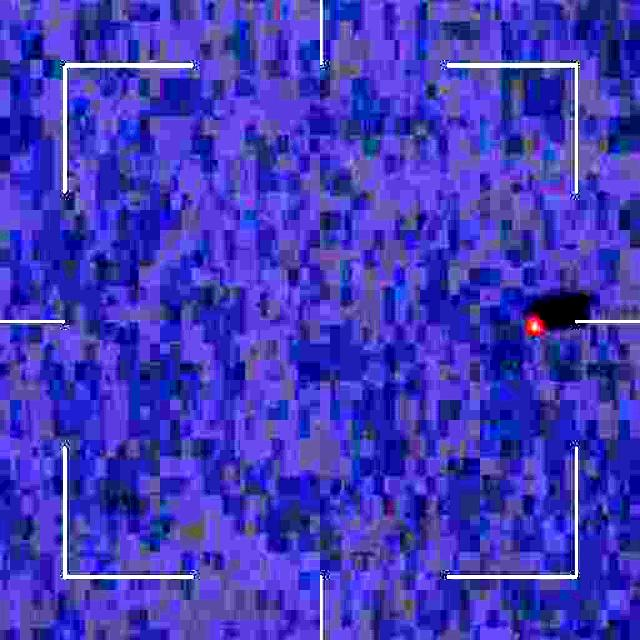bird: (516, 288, 562, 345)
